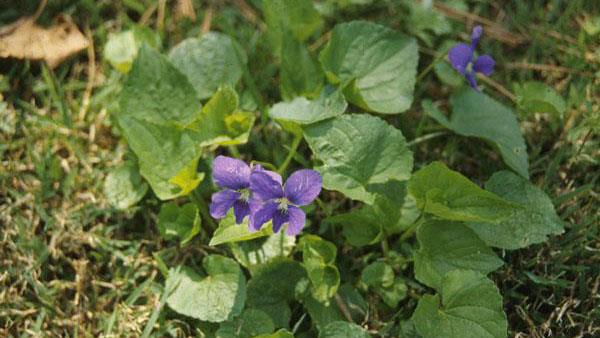violet: (198, 149, 276, 235), (245, 161, 320, 237), (451, 26, 507, 89)
